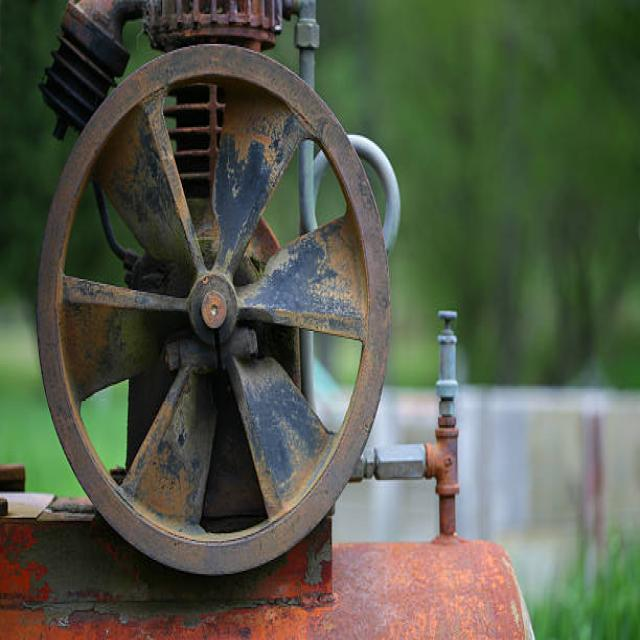compressor: (3, 2, 533, 635)
corrosion detected: (50, 283, 141, 379), (114, 126, 175, 228), (230, 91, 298, 173), (185, 268, 240, 348), (140, 442, 197, 519), (326, 226, 367, 322)
